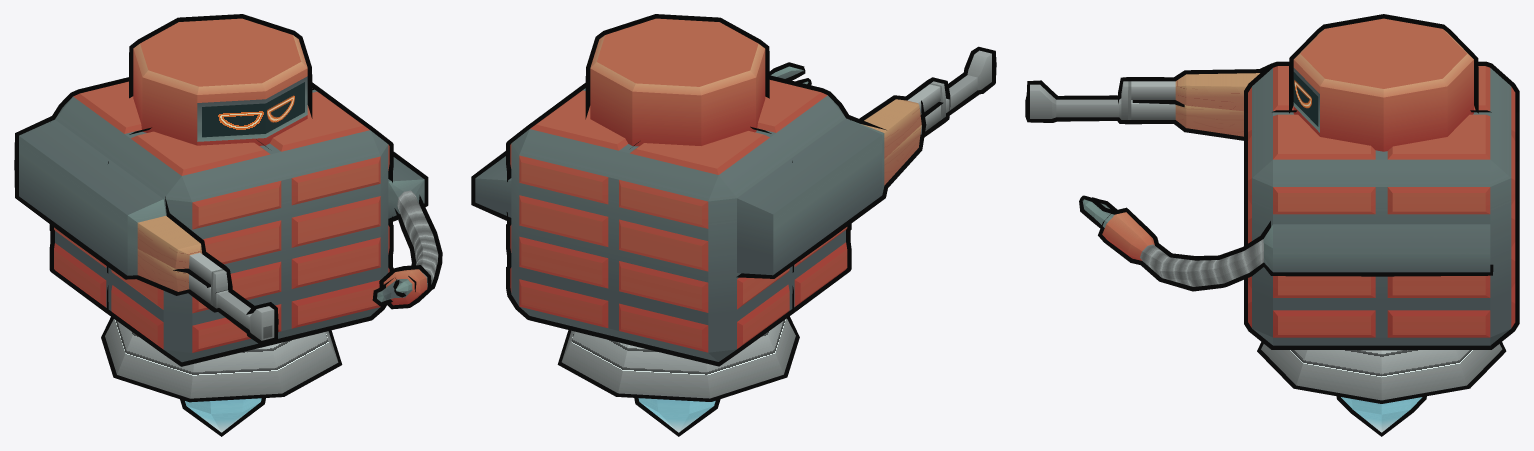
Rendered from bot_warehouse.glb.
The picture shows the model from 3 angles, left to right: view 1: azimuth 30°, elevation 25°; view 2: azimuth 150°, elevation 25°; view 3: azimuth 270°, elevation 25°; orthographic projection.
Visible parts, largest first — view 1: bot_warehouse; view 2: bot_warehouse; view 3: bot_warehouse.
Boxes of the visible parts, x1,y1,x2,y2 form: bot_warehouse: (14,14,442,436); bot_warehouse: (471,14,996,436); bot_warehouse: (1025,14,1519,436).
Bounding box in the file's own units: 2.22 × 2.71 × 3.14.
Materials: 1 (1 with a texture image).
